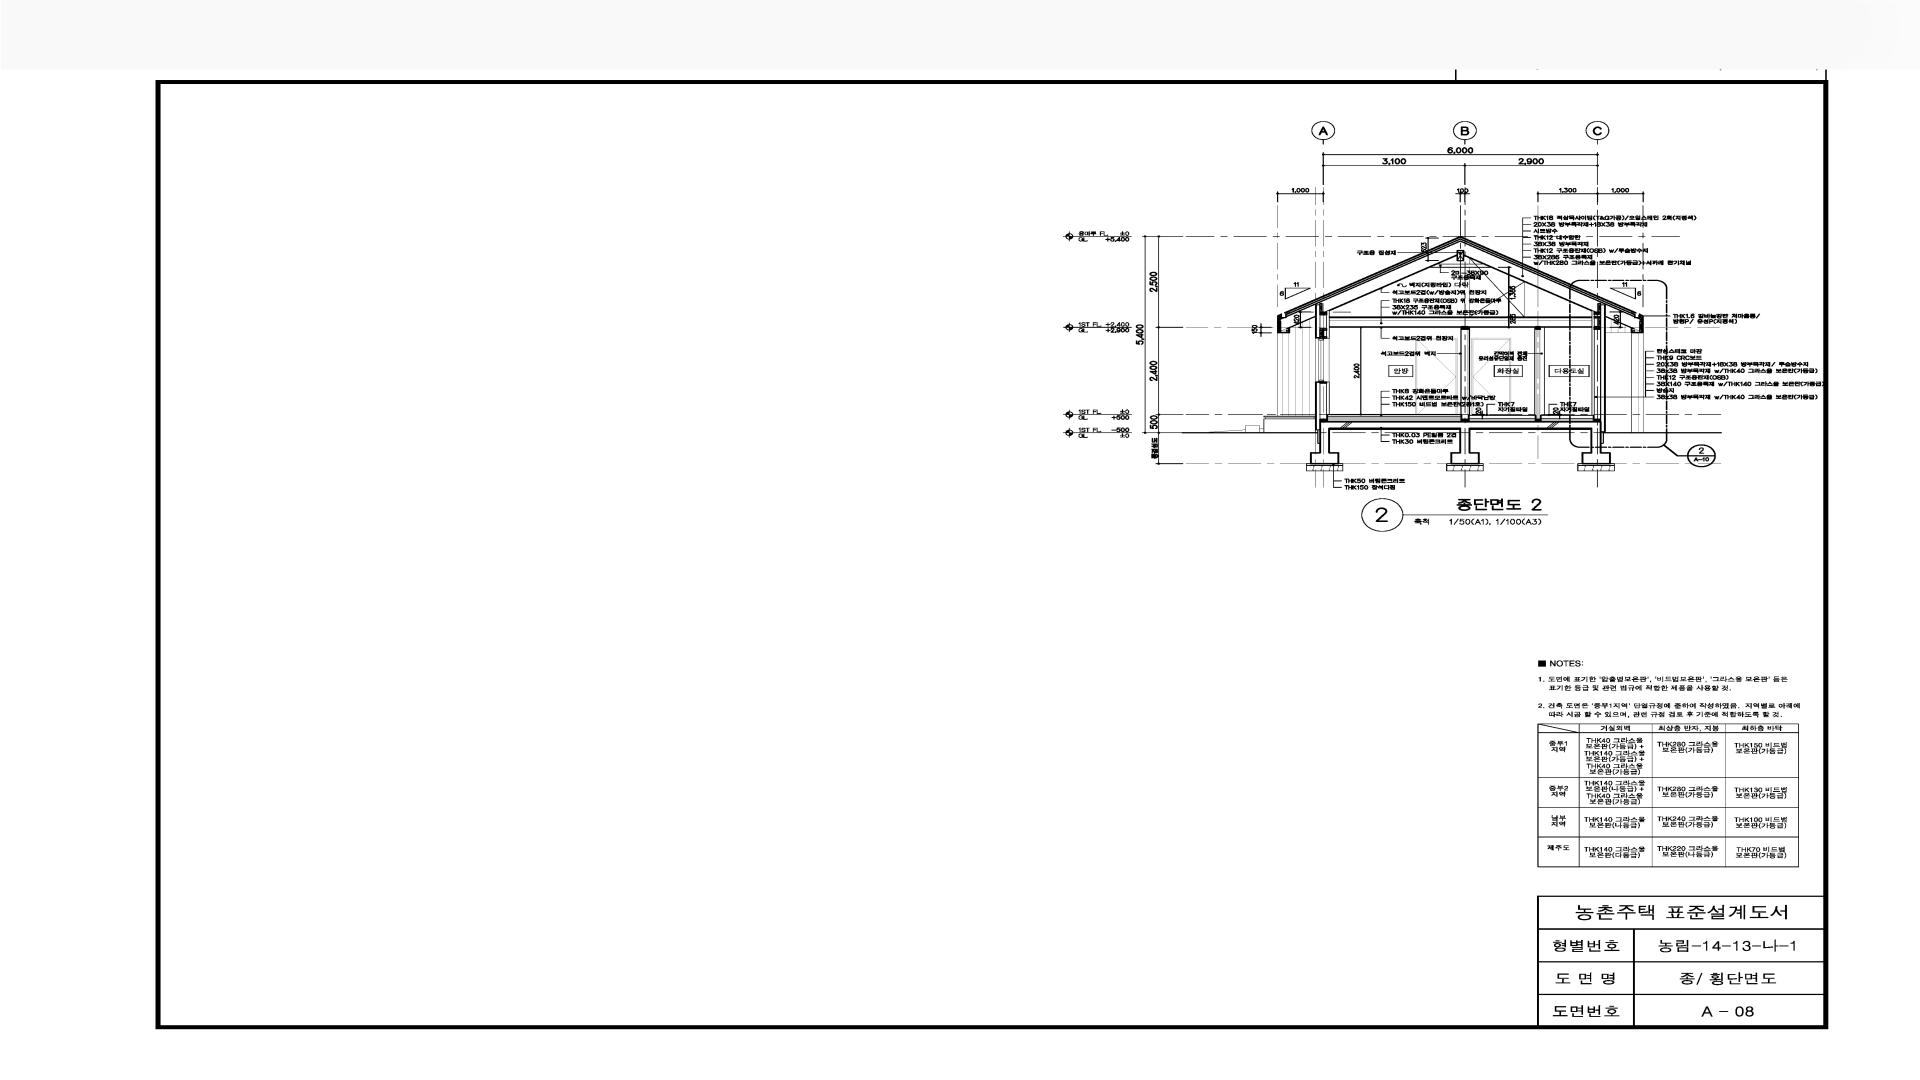door: (1415, 338, 1457, 414), (1472, 338, 1511, 414)
wall: (1278, 236, 1644, 334), (1309, 419, 1611, 464), (1329, 316, 1592, 328), (1592, 303, 1606, 433), (1535, 328, 1544, 419), (1461, 328, 1470, 419), (1315, 381, 1329, 430), (1315, 303, 1329, 339)
window: (1315, 339, 1329, 381)
